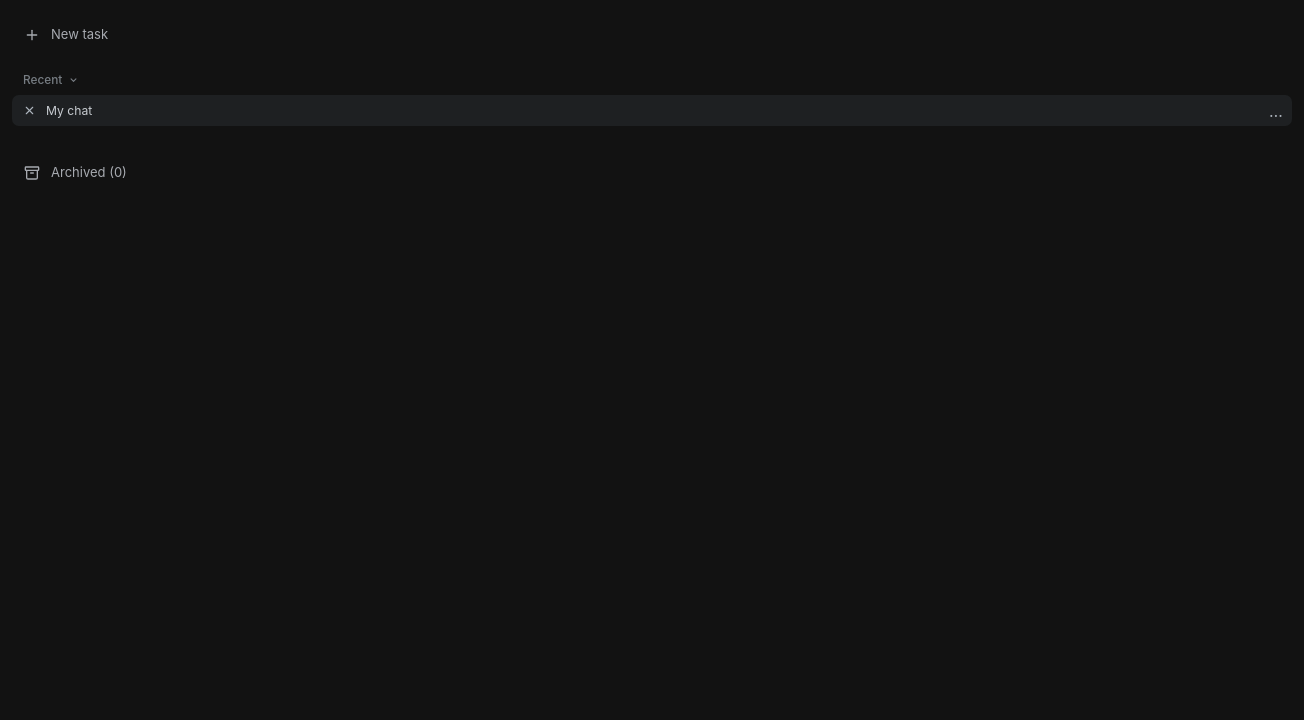
Test: opens only supported actions on right click, supports keyboard navigation and restores focus
Right-click the button "My chat" at (69, 110), box [12, 95, 1292, 126]
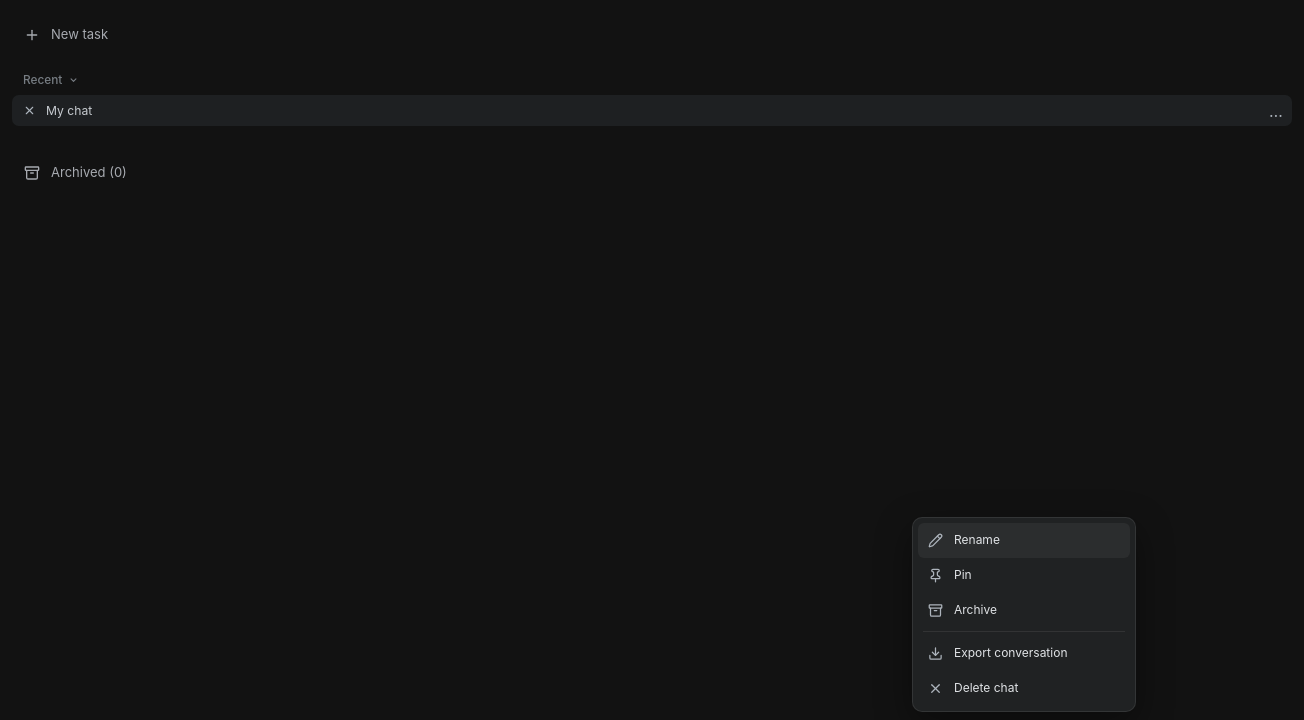
Expected: the menu items read "Rename", "Pin", "Archive", "Export conversation", "Delete chat", in this order, [918, 523, 1130, 558]; [918, 558, 1130, 593]; [918, 593, 1130, 627]; [918, 636, 1130, 671]; [918, 671, 1130, 706]
Press ArrowDown in the menu, box [912, 517, 1136, 712]
Press Escape in the menu, box [912, 517, 1136, 712]
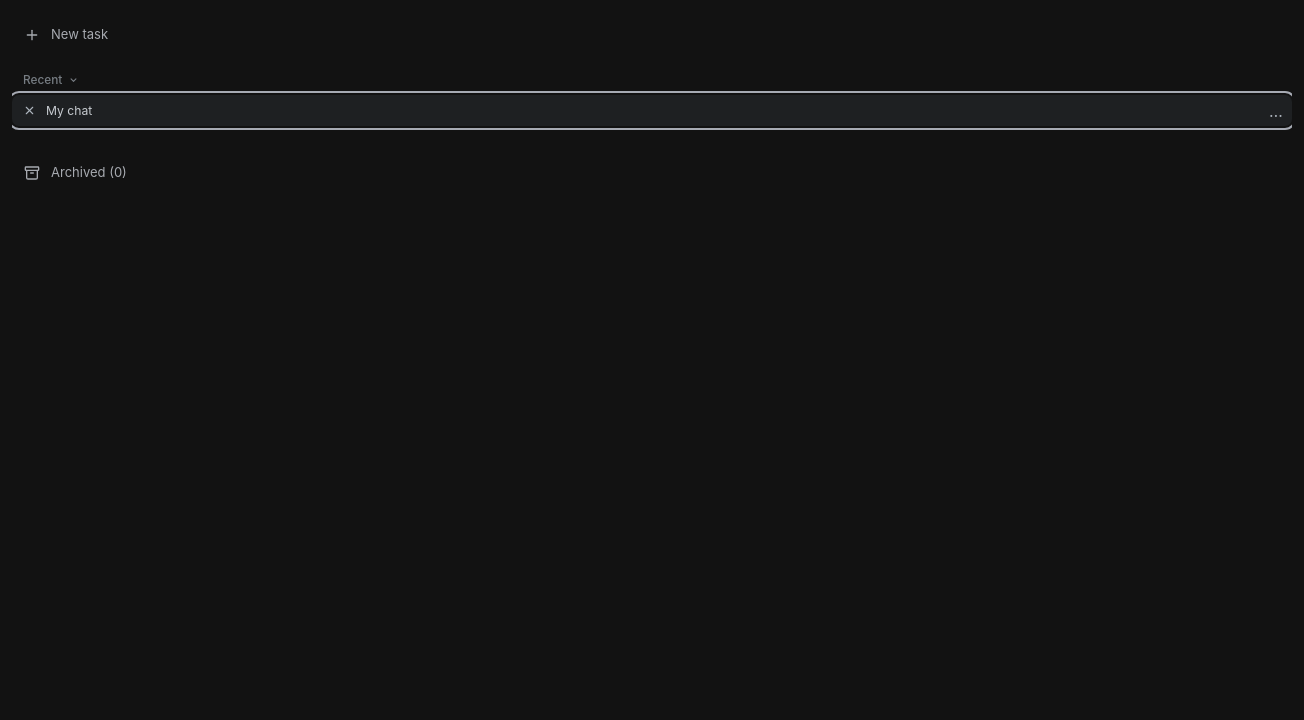
Expected: the menu is gone
